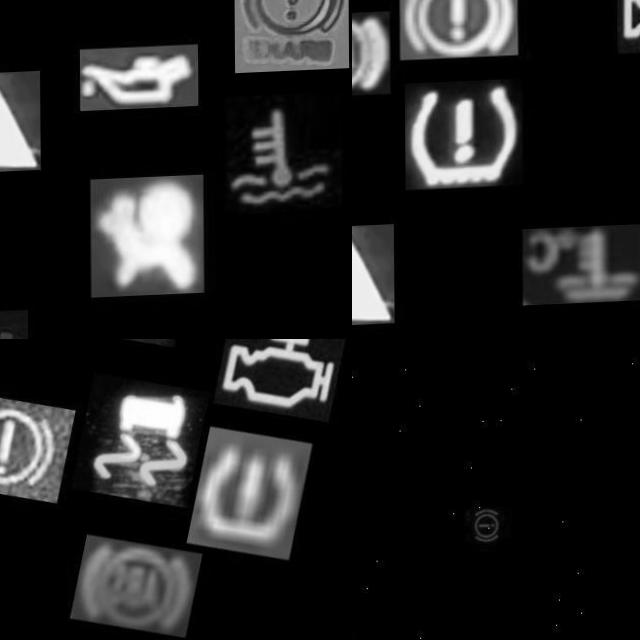Central Warning lamp: (352, 225, 394, 328), (0, 73, 40, 176)
Engine cooling system: (223, 98, 342, 220), (522, 227, 640, 307)
